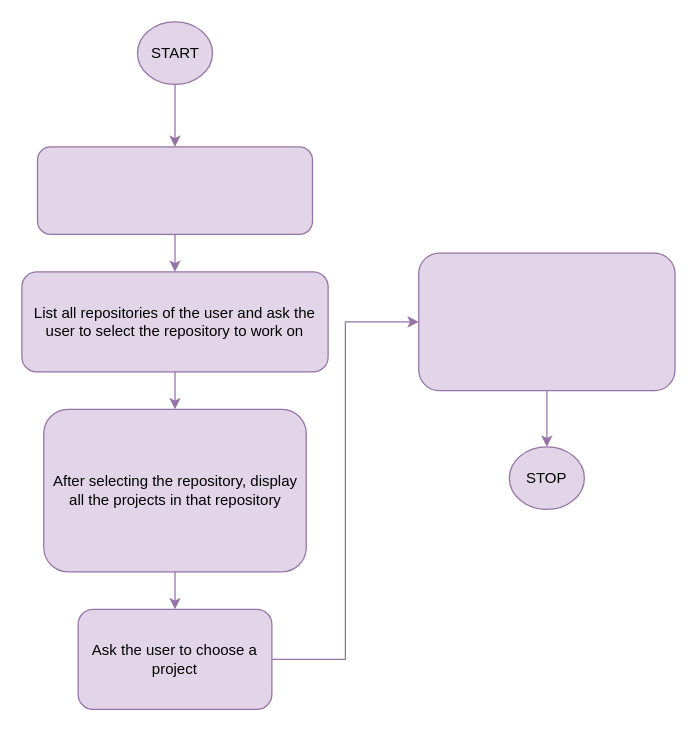
The diagram is 698 pixels wide and 731 high, and some of its shapes have lost their labels. The centre of each missing label's shape, as x and y in pixels:
"After the user chooses a project, list all the columns with cards and stuff" belongs at (546,321).
"Generate auth token for the user" belongs at (174,190).
